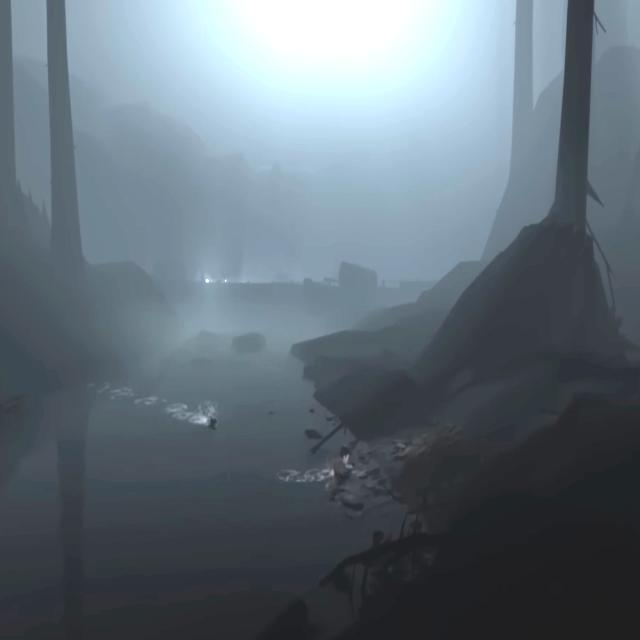boy: (332, 445, 353, 479)
